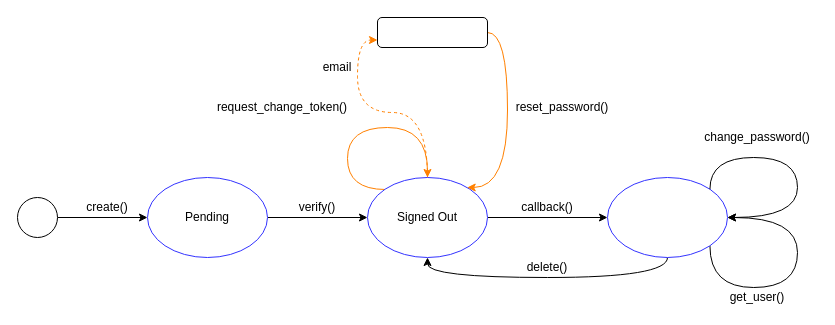
Image size: 835x325. Some labels were removed from this diagram. The box of each missing label's shape, as (x1, y1, x2, y2) in pixels:
Signed In: (606, 176, 728, 258)
veriification_token: (376, 16, 488, 48)
